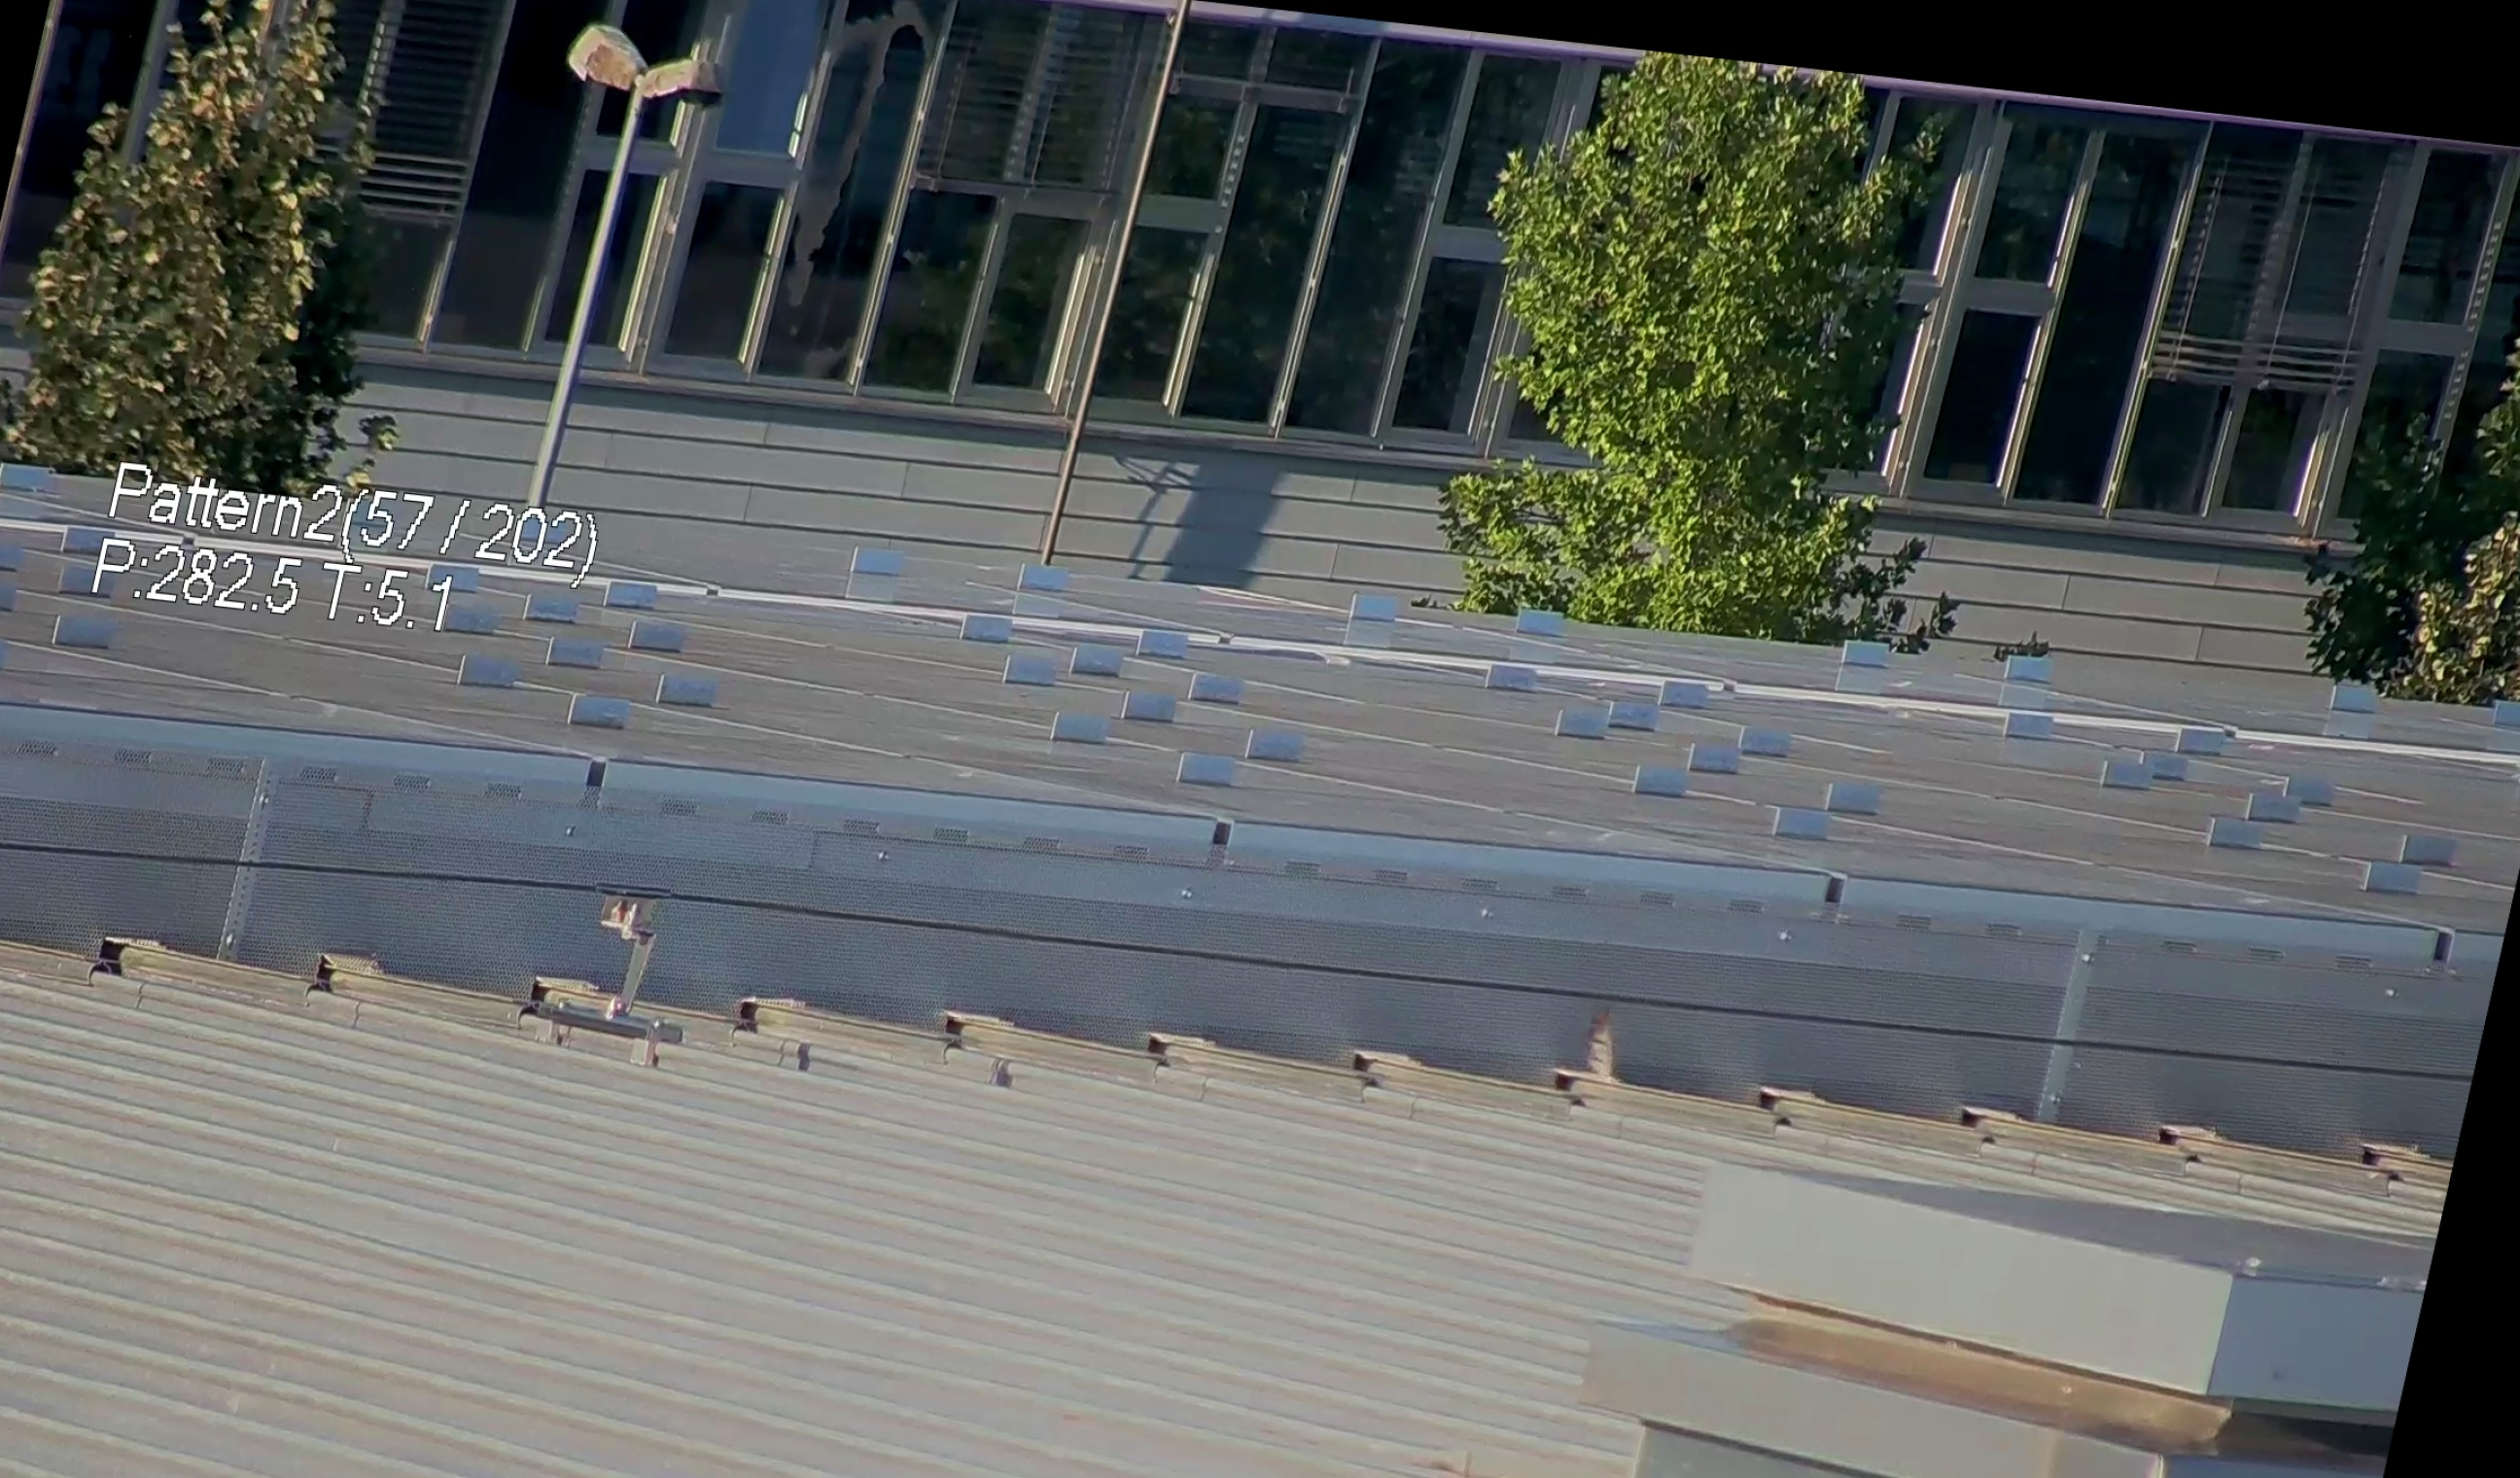Other: (1549, 984, 1648, 1114)
